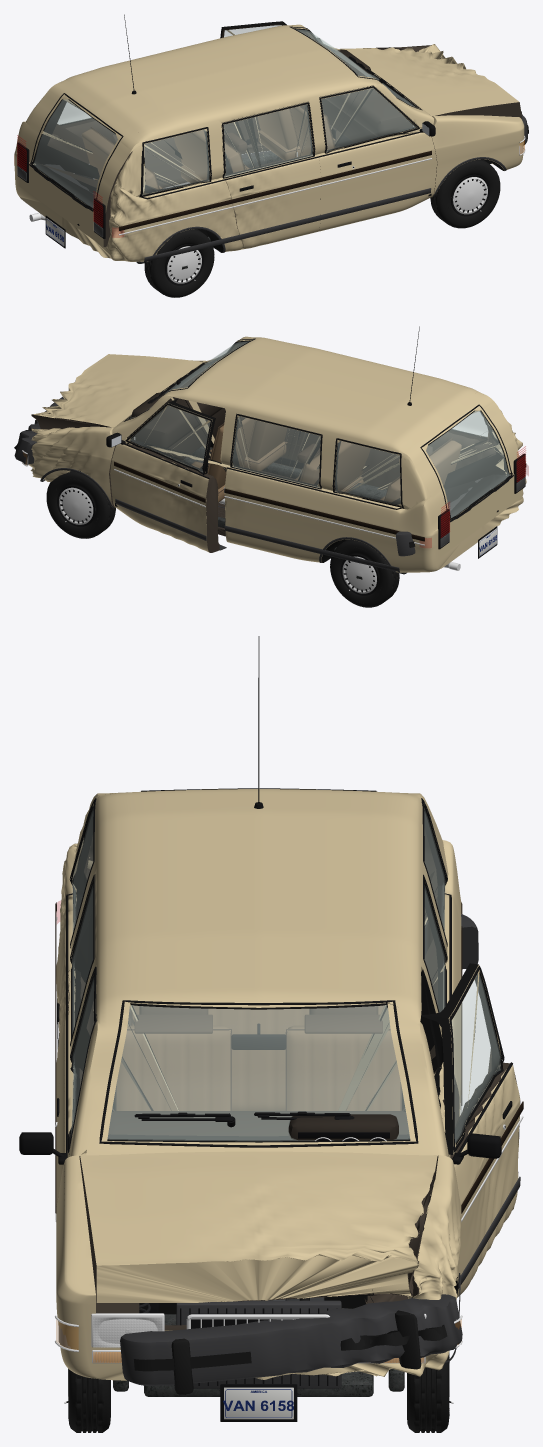
Rendered from minivan86_damaged.glb.
3 renders of one model, top to bottom at view 1: azimuth 30°, elevation 25°; view 2: azimuth 150°, elevation 25°; view 3: azimuth 270°, elevation 25°, orthographic. The views are drawn at different scales.
Parts seen in each view (by area): view 1: Body, Interior, Door_FR, Hood, Door_SR, Glass_Liftgate, Glass, Glass_SR, Liftgate, Glass_FR, Wheel_FR_mesh, Wheel_RR_mesh (+7 smaller); view 2: Body, Interior, Glass, Door_FL, Hood, Glass_Liftgate, Trim, Liftgate, Wheel_FL_mesh, Glass_FL, Wheel_RL_mesh, Trim_FL (+6 smaller); view 3: Body, Hood, Glass, Interior, Bumper_F, Door_FL, Ends, Glass_FL, Trim, Trim_FL, Engine, Underbody (+10 smaller).
Boxes of the visible parts, bbox=[...] form: Body: bbox=[14, 24, 524, 261]; Interior: bbox=[81, 49, 412, 197]; Door_FR: bbox=[318, 85, 437, 231]; Hood: bbox=[347, 44, 522, 118]; Door_SR: bbox=[221, 101, 321, 249]; Glass_Liftgate: bbox=[29, 93, 123, 211]; Glass: bbox=[57, 26, 422, 197]; Glass_SR: bbox=[221, 104, 315, 178]; Liftgate: bbox=[20, 81, 144, 247]; Glass_FR: bbox=[319, 86, 416, 153]; Wheel_FR_mesh: bbox=[430, 159, 500, 228]; Wheel_RR_mesh: bbox=[144, 229, 214, 297]; Body: bbox=[28, 336, 526, 572]; Interior: bbox=[129, 369, 461, 502]; Glass: bbox=[123, 338, 487, 504]; Door_FL: bbox=[110, 398, 219, 552]; Hood: bbox=[31, 354, 203, 429]; Glass_Liftgate: bbox=[420, 404, 513, 522]; Trim: bbox=[40, 326, 526, 572]; Liftgate: bbox=[400, 392, 522, 557]; Wheel_FL_mesh: bbox=[46, 471, 115, 538]; Glass_FL: bbox=[130, 403, 212, 475]; Wheel_RL_mesh: bbox=[330, 539, 399, 607]; Trim_FL: bbox=[106, 403, 226, 550]; Body: bbox=[56, 788, 461, 1380]; Hood: bbox=[80, 1151, 437, 1302]; Glass: bbox=[71, 802, 445, 1147]; Interior: bbox=[108, 1005, 409, 1141]; Bumper_F: bbox=[120, 1294, 462, 1394]; Door_FL: bbox=[421, 963, 520, 1297]; Ends: bbox=[55, 1313, 462, 1421]; Glass_FL: bbox=[447, 974, 502, 1142]; Trim: bbox=[55, 636, 462, 1363]; Trim_FL: bbox=[449, 965, 523, 1288]; Engine: bbox=[139, 1297, 341, 1388]; Underbody: bbox=[113, 1303, 404, 1396].
Size of the model in its own units: 4.49 by 2.41 by 2.2.
34 materials, 5 textured.
